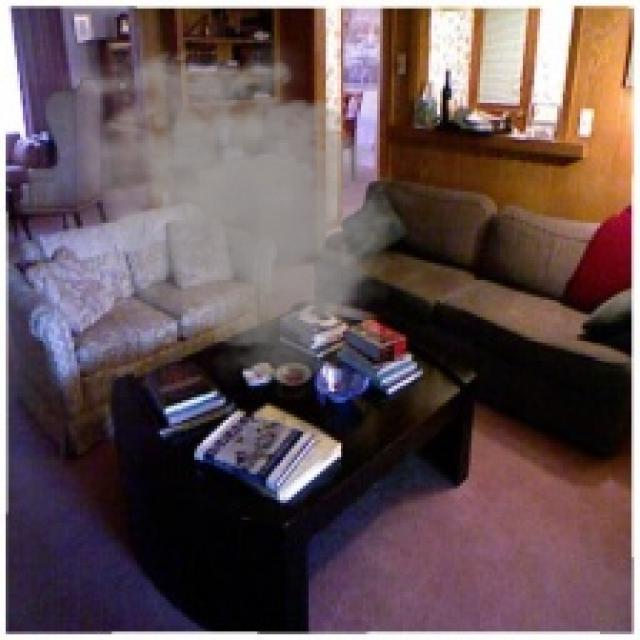smoke: (49, 34, 414, 392)
